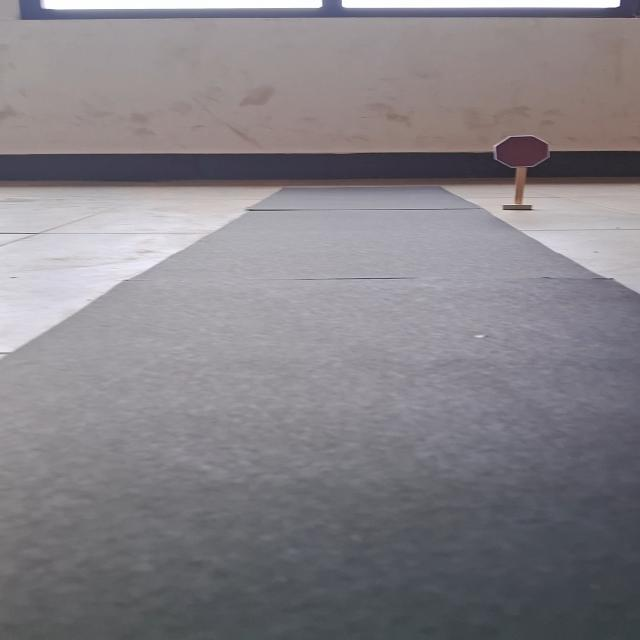Stop: (492, 135, 552, 169)
